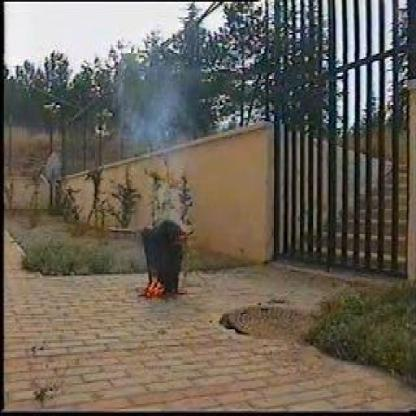-: (127, 84, 176, 145)
foggia-v2-map80-epoch100 - v1 4323: (140, 272, 168, 297)
